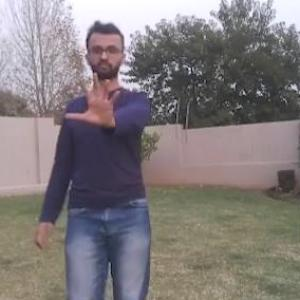follow_hand: (63, 65, 123, 128)
